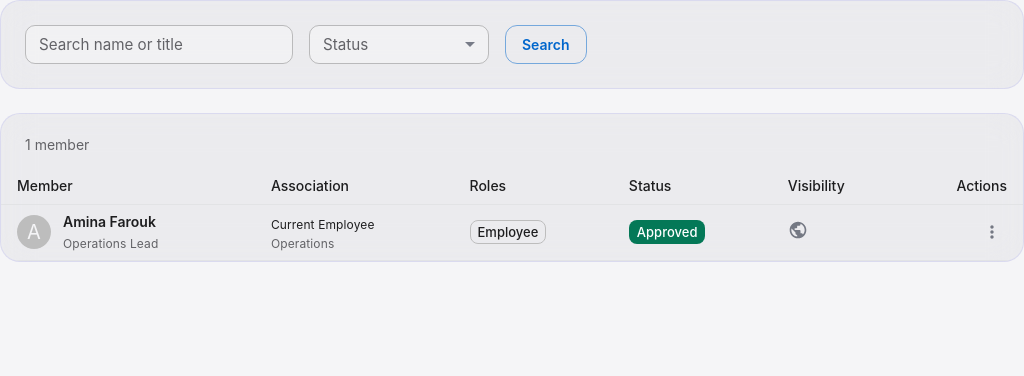
Scenario: CompanyTeam › hides the permission editor from a manager without permission:edit
The width and height of the screenshot is (1024, 376).
Click the button named "Actions for Amina Farouk" at (992, 232), box [977,217,1007,247]
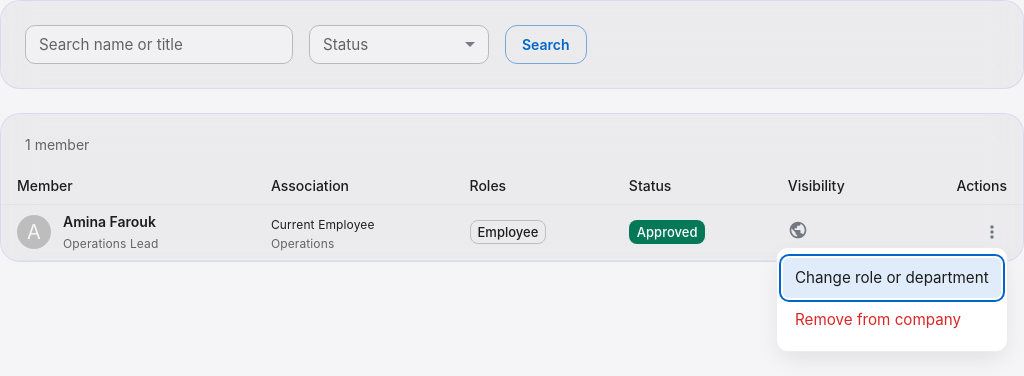
Expected: the menu item "Remove from company" is shown, [795,310,961,329]
